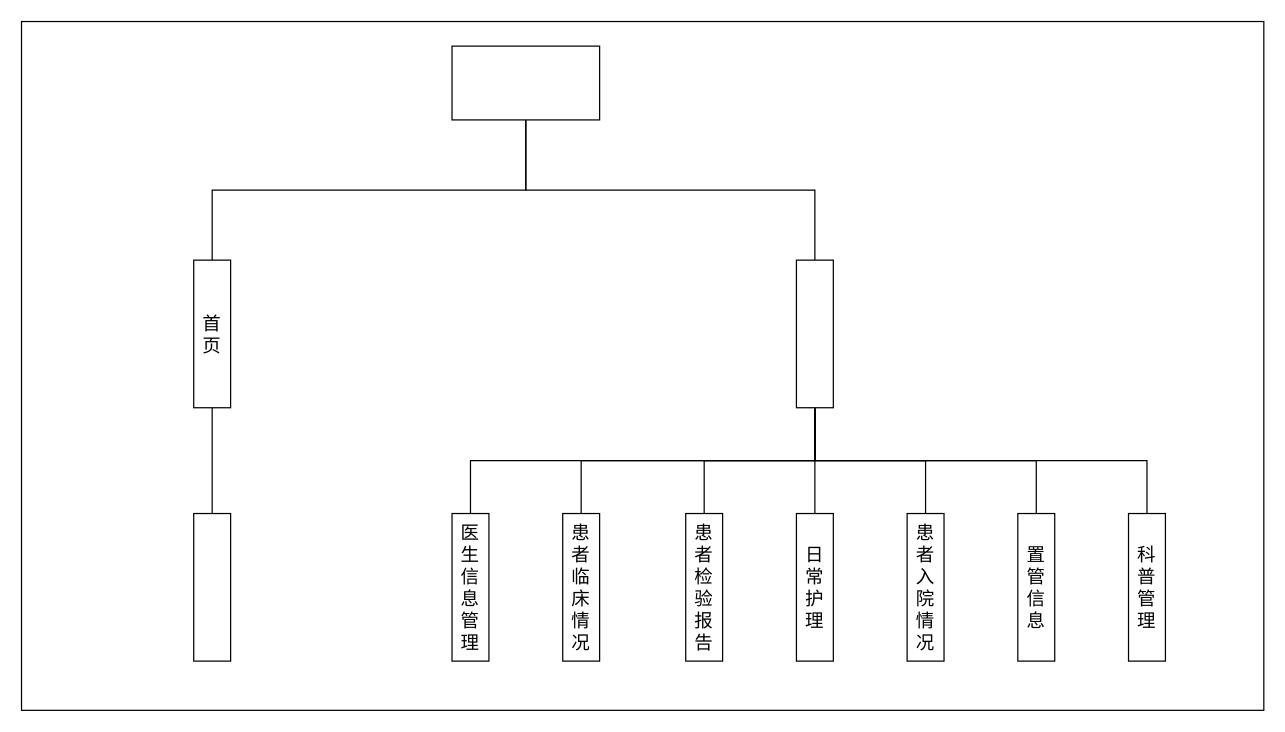
Image size: 1285x732. Some labels were removed from this diagram. Here are the shapes that lost their labels. From the top down, the centre of each, then its label:
At (x=525, y=82): "运管端".
At (x=814, y=333): "信息管理".
At (x=211, y=586): "数据总览".
